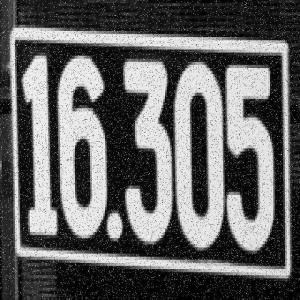Plate: (9, 26, 292, 282)
